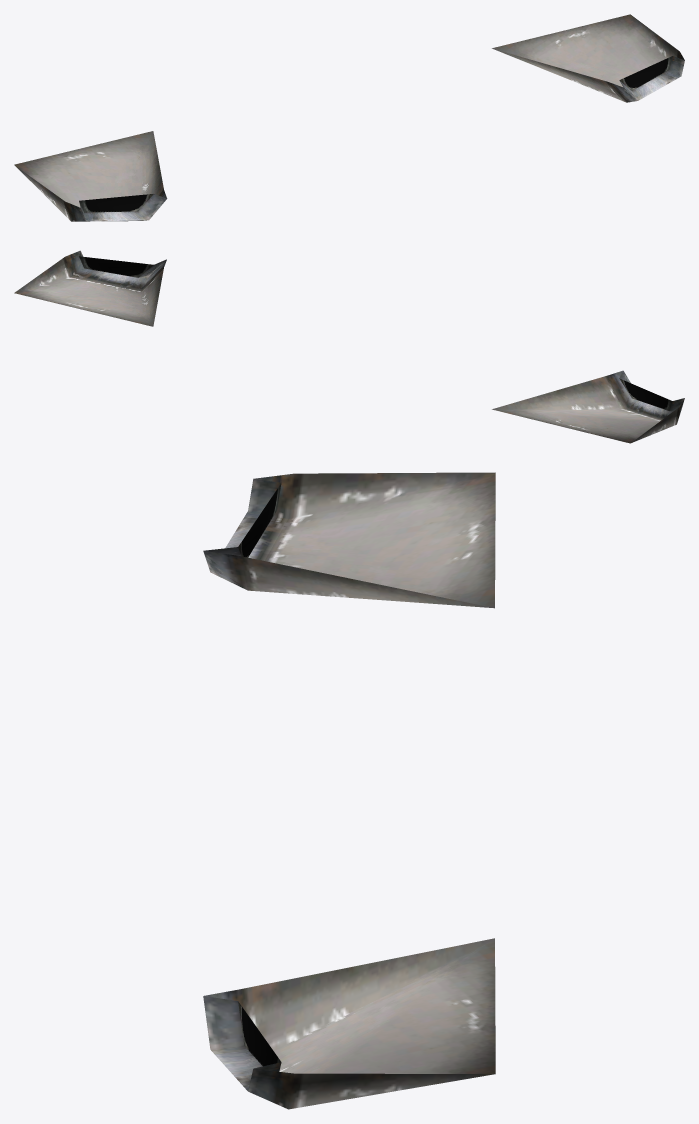
The model's file is hutt_fighter_heavy_missile_pod_s01_l1.fbx.
3 views of the same model, one above another, from view 1: azimuth 30°, elevation 25°; view 2: azimuth 150°, elevation 25°; view 3: azimuth 270°, elevation 25° (orthographic). The views are drawn at different scales.
Parts seen in each view (by area): view 1: mesh_node; view 2: mesh_node; view 3: mesh_node.
Part boxes in pixels (<box>): mesh_node: <box>14,14,684,221</box>; mesh_node: <box>14,250,684,443</box>; mesh_node: <box>203,472,495,1109</box>.
Bounding box in the file's own units: 17.01 × 0.7226 × 3.5.
